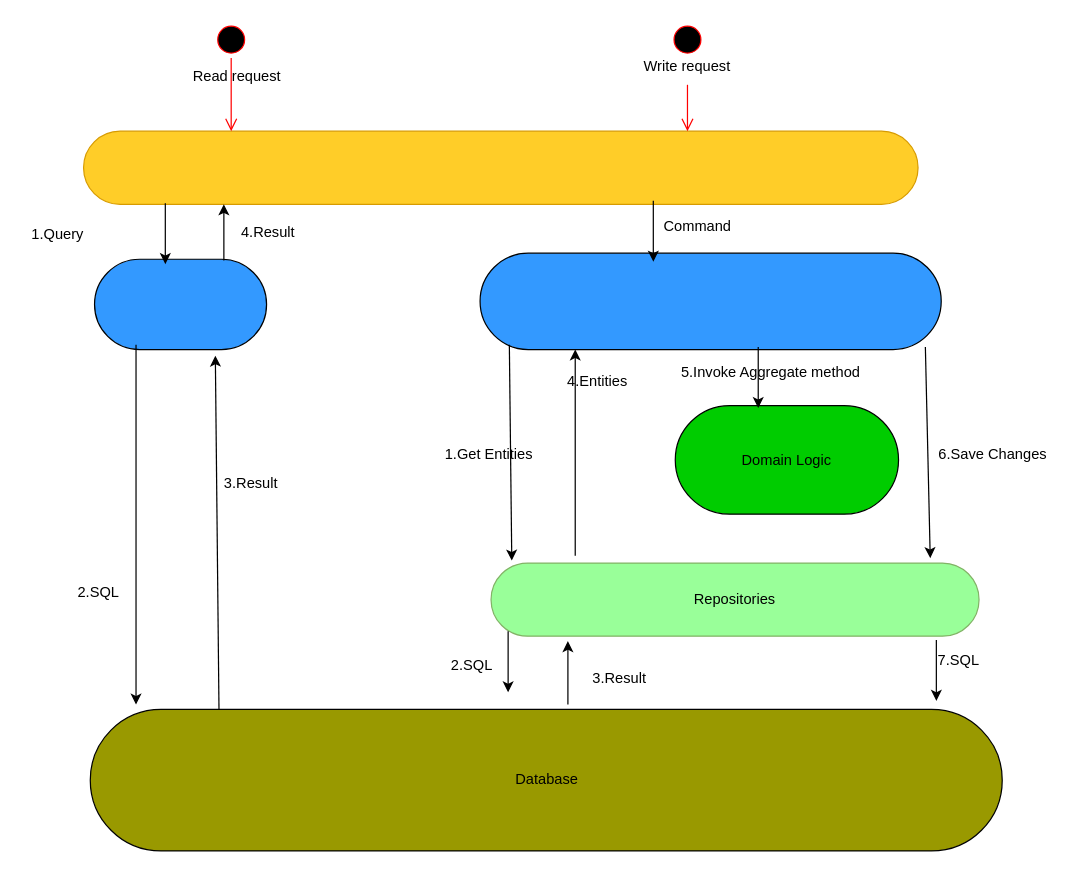
Some shapes in this 1077 by 872 pixel diagram are drawn without their labels. The centre of each missing label's shape, as x and y in pixels:
Command handler using DDD and EF: [710,301]
GUI: [500,167]
